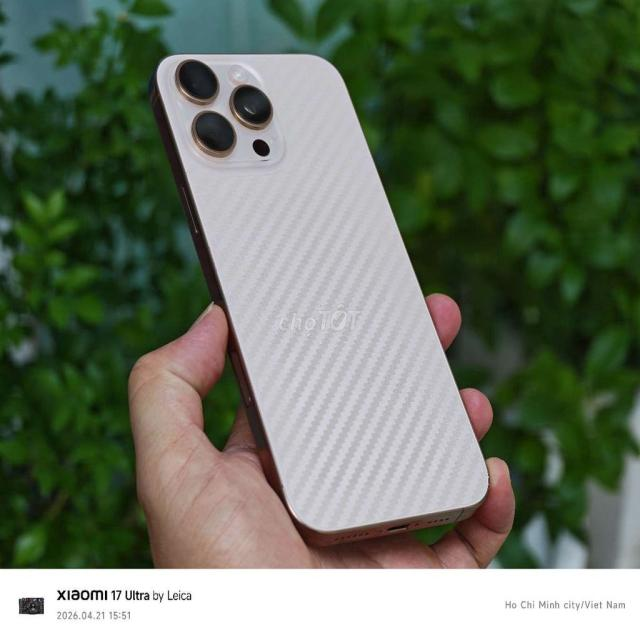gen_16: (150, 54, 488, 543)
